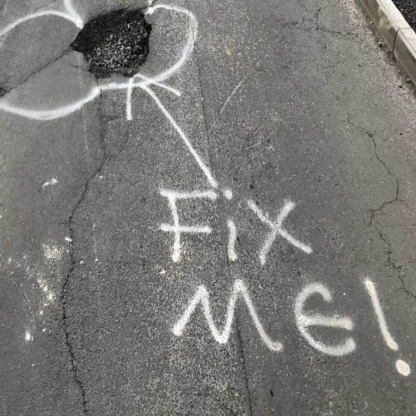pothole: (60, 3, 168, 87)
